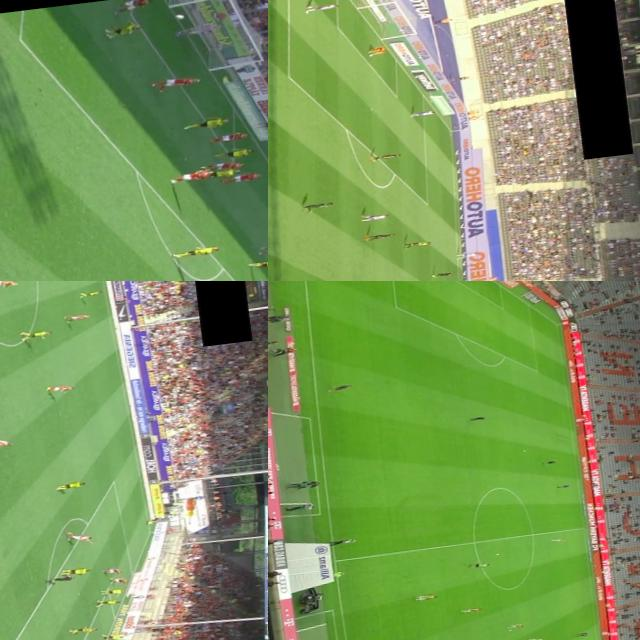ball: (163, 12, 190, 21), (492, 550, 502, 557), (366, 52, 374, 57), (518, 448, 525, 452), (326, 388, 332, 392), (508, 628, 512, 632)
player: (170, 20, 225, 38), (166, 243, 220, 260), (152, 73, 201, 89), (96, 22, 143, 38), (63, 526, 95, 546), (184, 117, 230, 130), (171, 170, 217, 182), (200, 160, 242, 173), (209, 132, 250, 144), (215, 147, 256, 158), (224, 172, 261, 184), (20, 329, 53, 342), (202, 168, 240, 179), (113, 0, 150, 11), (303, 1, 338, 12), (367, 152, 401, 162), (54, 480, 88, 490), (58, 566, 92, 576), (364, 231, 394, 242), (360, 211, 390, 222), (247, 256, 268, 271), (412, 591, 438, 603), (330, 381, 356, 393), (76, 288, 104, 298), (45, 383, 74, 392), (69, 625, 98, 634), (302, 202, 334, 210), (430, 270, 455, 280), (410, 109, 437, 118), (0, 431, 13, 449), (99, 587, 125, 596), (368, 44, 389, 55), (64, 312, 87, 322), (109, 575, 128, 587), (94, 598, 119, 606), (99, 632, 122, 640), (100, 566, 122, 574), (455, 252, 477, 259), (460, 606, 482, 613), (259, 242, 268, 258), (0, 281, 16, 289), (468, 562, 488, 568), (576, 630, 590, 638), (507, 622, 523, 628), (470, 415, 485, 421), (550, 537, 564, 543), (542, 460, 556, 466), (524, 636, 542, 640), (556, 484, 568, 488)
